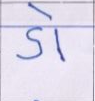e_matra: (29, 4, 54, 25)
